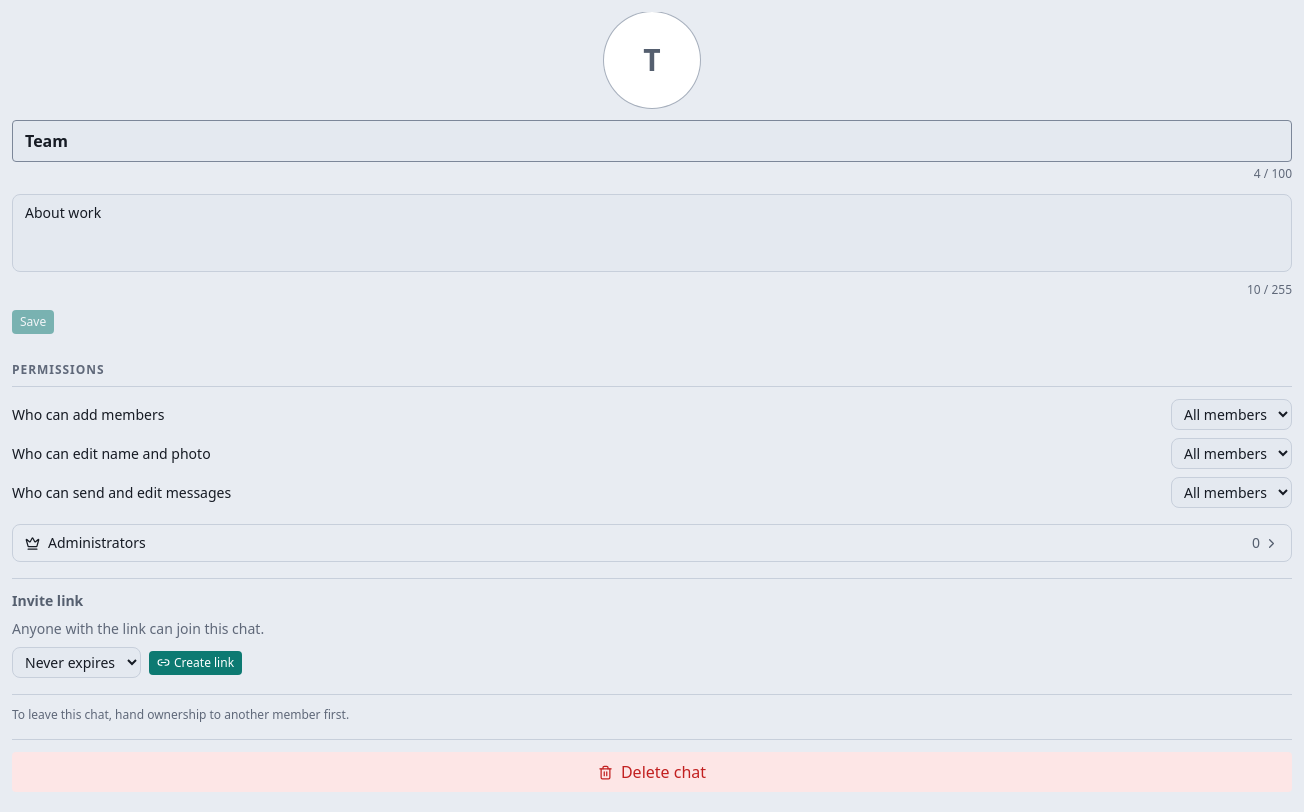
Test case: ChatSettingsContent › profile › reports a failed save
The image size is (1304, 812).
Type "!" into the field with placeholder "Chat name" at point(652, 141), box top-left (12, 120), bottom-right (1292, 162)
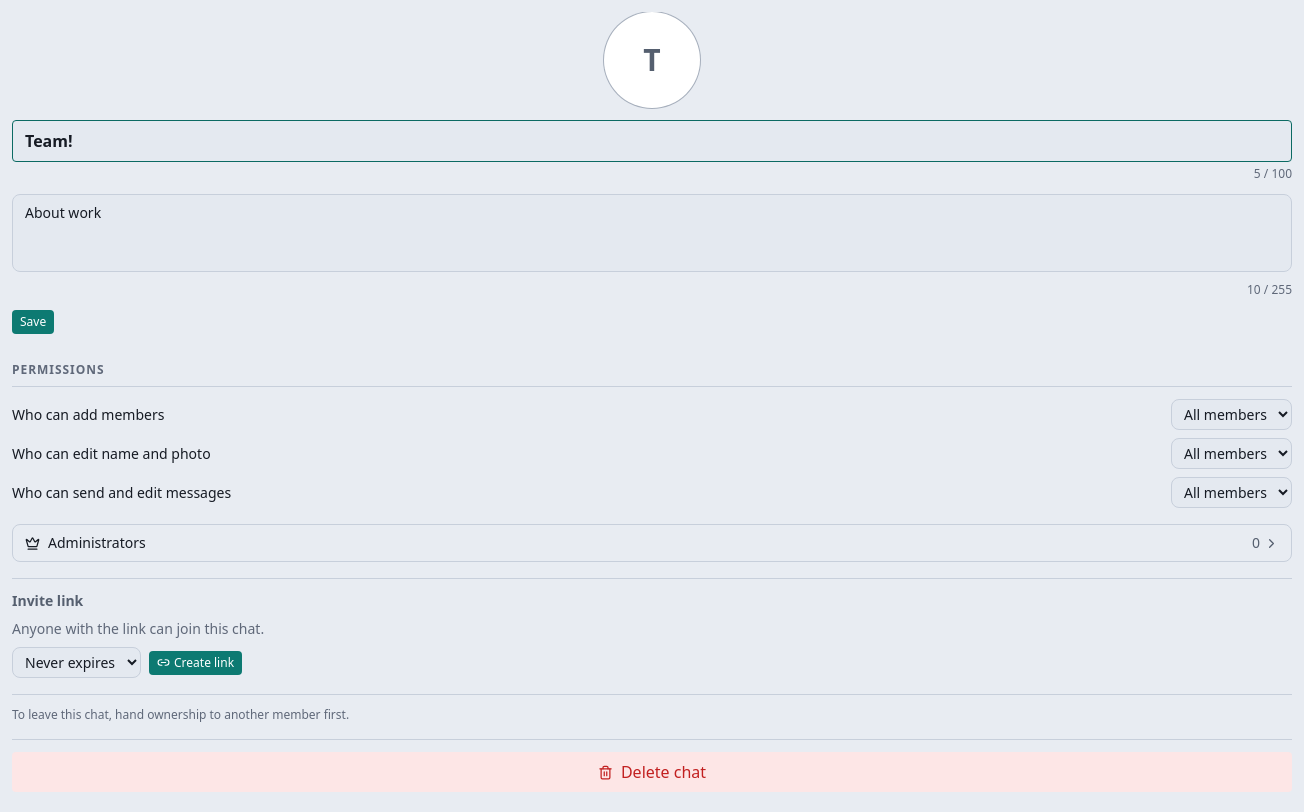
Click the button "Save" at point(33, 322), box top-left (12, 310), bottom-right (54, 334)
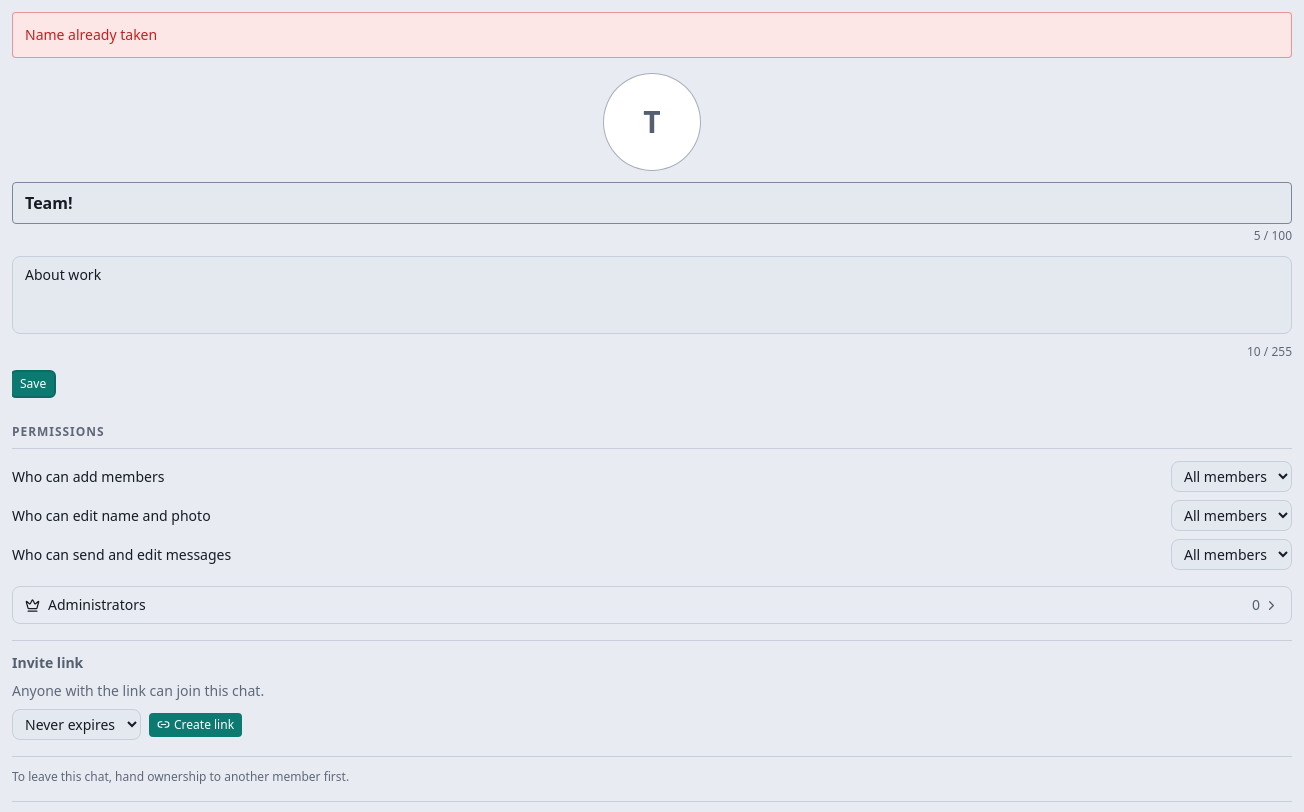
Check: the text "Name already taken" is shown, box top-left (12, 12), bottom-right (1292, 58)
